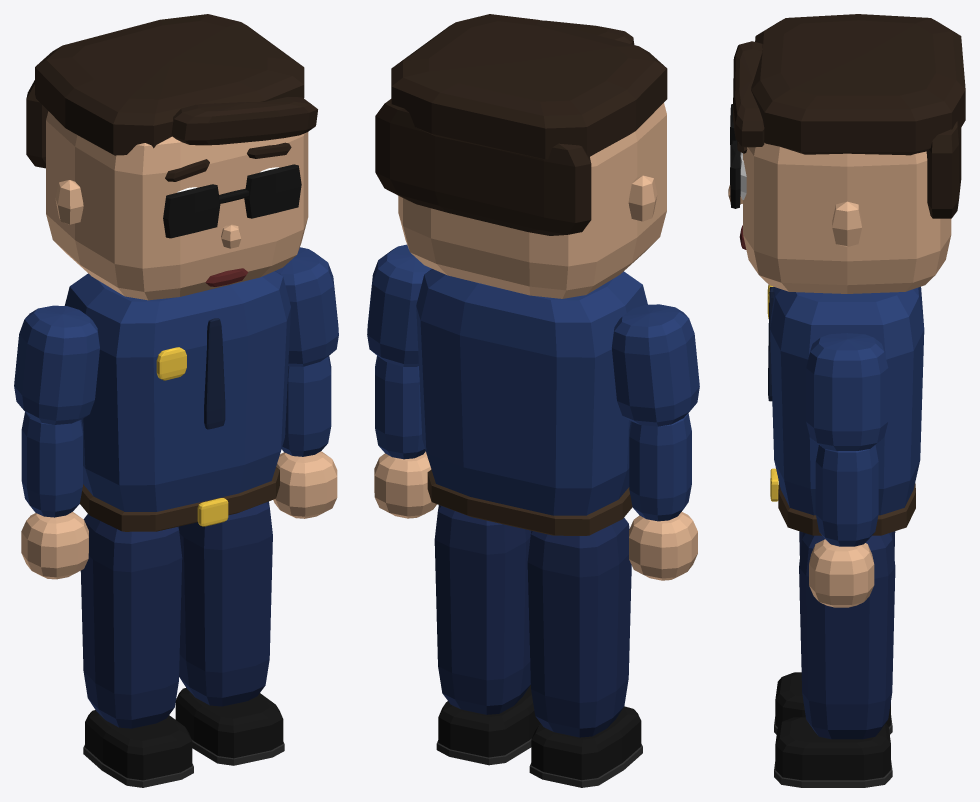
The model's file is hero-j.glb.
The picture shows the model from 3 angles, left to right: view 1: azimuth 30°, elevation 25°; view 2: azimuth 150°, elevation 25°; view 3: azimuth 270°, elevation 25°; orthographic projection. The views are drawn at different scales.
Visible parts, largest first — view 1: head, torso, leg-right, leg-left, arm-right, arm-left; view 2: head, torso, leg-right, leg-left, arm-right, arm-left; view 3: head, torso, leg-left, arm-left, leg-right.
Part boxes in pixels (bbox=[...]): head: bbox=[26, 14, 317, 300]; torso: bbox=[64, 271, 290, 531]; leg-right: bbox=[80, 514, 193, 787]; leg-left: bbox=[175, 501, 284, 765]; arm-right: bbox=[14, 305, 99, 579]; arm-left: bbox=[273, 247, 338, 518]; head: bbox=[375, 14, 667, 298]; torso: bbox=[416, 269, 647, 535]; leg-right: bbox=[527, 517, 642, 787]; leg-left: bbox=[434, 505, 540, 765]; arm-right: bbox=[611, 304, 699, 580]; arm-left: bbox=[367, 244, 436, 518]; head: bbox=[728, 14, 965, 293]; torso: bbox=[767, 284, 924, 535]; leg-left: bbox=[774, 532, 895, 787]; arm-left: bbox=[806, 333, 888, 607]; leg-right: bbox=[774, 531, 895, 734].
Bounding box in the file's own units: 1.29 × 2.73 × 0.8497.
